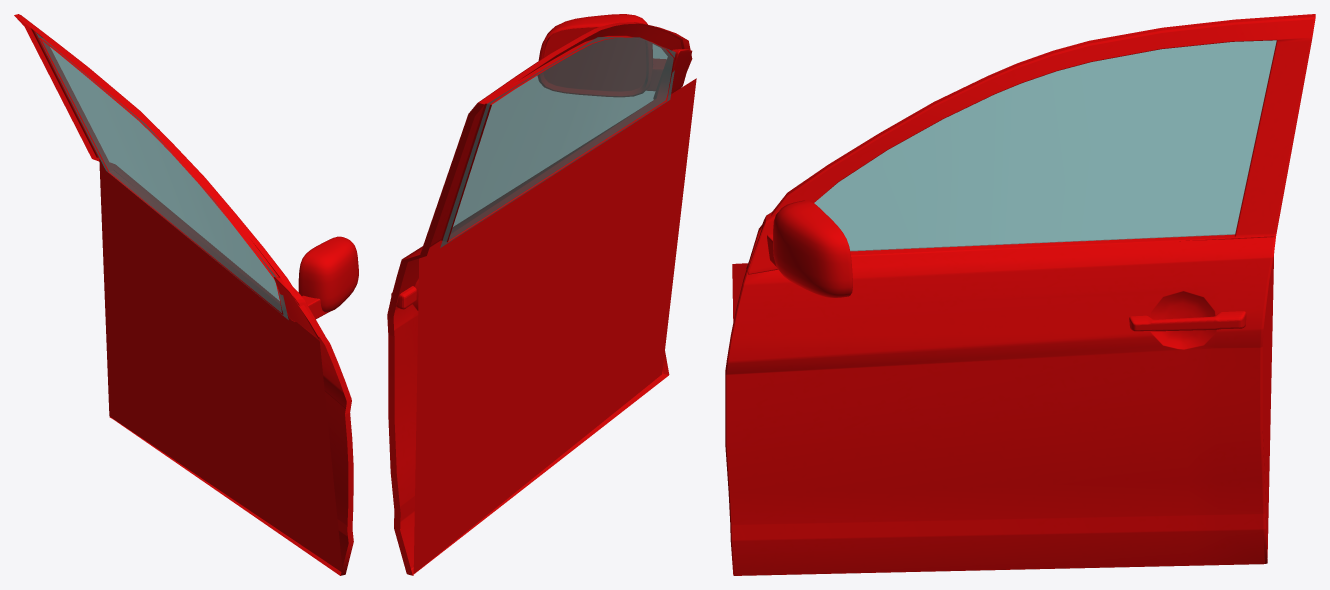
File: door.obj
The picture shows the model from 3 angles, left to right: view 1: azimuth 30°, elevation 25°; view 2: azimuth 150°, elevation 25°; view 3: azimuth 270°, elevation 25°; orthographic projection. The views are drawn at different scales.
Visible parts, largest first — view 1: Front_doors_Plano.014, Windows_Plano.011; view 2: Front_doors_Plano.014, Windows_Plano.011; view 3: Front_doors_Plano.014, Windows_Plano.011.
Boxes of the visible parts, x1,y1,x2,y2 form: Front_doors_Plano.014: (14,14,358,575); Windows_Plano.011: (35,32,288,319); Front_doors_Plano.014: (387,14,696,575); Windows_Plano.011: (440,37,675,247); Front_doors_Plano.014: (725,14,1315,575); Windows_Plano.011: (814,40,1276,251).
Size of the model in its own units: 0.588 by 1.55 by 1.64.
Materials: 3 (2 with a texture image).
